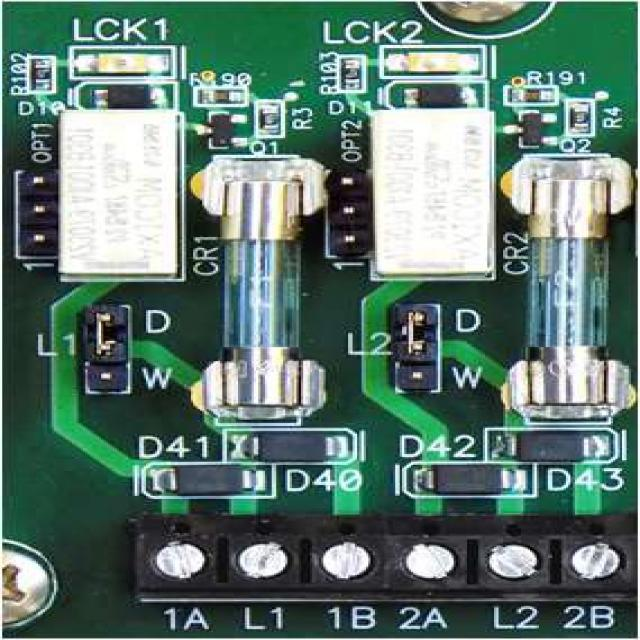4439: (200, 104, 248, 150), (502, 107, 553, 150)
LED: (72, 52, 183, 78), (388, 46, 488, 74)
connector -5v-: (109, 509, 640, 608), (88, 298, 143, 380), (392, 302, 442, 388), (17, 170, 56, 262)
diode -D1-: (412, 455, 523, 500), (140, 464, 284, 497), (504, 430, 614, 463), (242, 430, 342, 466), (88, 75, 170, 108), (401, 83, 490, 105)
fuse F1: (208, 151, 329, 427), (513, 154, 637, 412)
resistor IR1: (13, 52, 56, 96), (572, 96, 601, 135), (261, 100, 285, 142), (198, 84, 248, 104), (339, 55, 361, 93), (511, 87, 556, 103)
